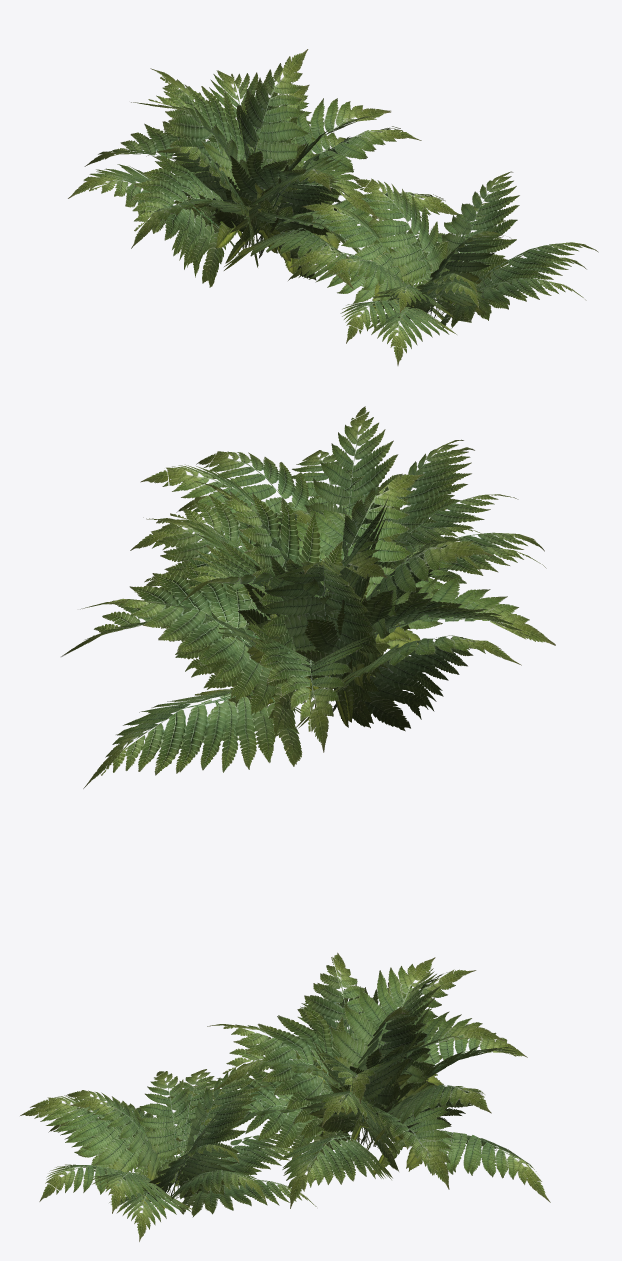
The model's file is samambaia.glb.
3 renders of one model, top to bottom at view 1: azimuth 30°, elevation 25°; view 2: azimuth 150°, elevation 25°; view 3: azimuth 270°, elevation 25°, orthographic. The views are drawn at different scales.
Visible parts, largest first — view 1: SM_MZRa_Fern_B0512_MI_MZRa_Fern_B051_0; view 2: SM_MZRa_Fern_B0512_MI_MZRa_Fern_B051_0; view 3: SM_MZRa_Fern_B0512_MI_MZRa_Fern_B051_0.
Part boxes in pixels (bbox=[...]): SM_MZRa_Fern_B0512_MI_MZRa_Fern_B051_0: bbox=[68, 49, 598, 365]; SM_MZRa_Fern_B0512_MI_MZRa_Fern_B051_0: bbox=[61, 406, 555, 788]; SM_MZRa_Fern_B0512_MI_MZRa_Fern_B051_0: bbox=[20, 952, 550, 1241].
Size of the model in its own units: 1.89 by 1 by 2.22.
1 material, 1 textured.
